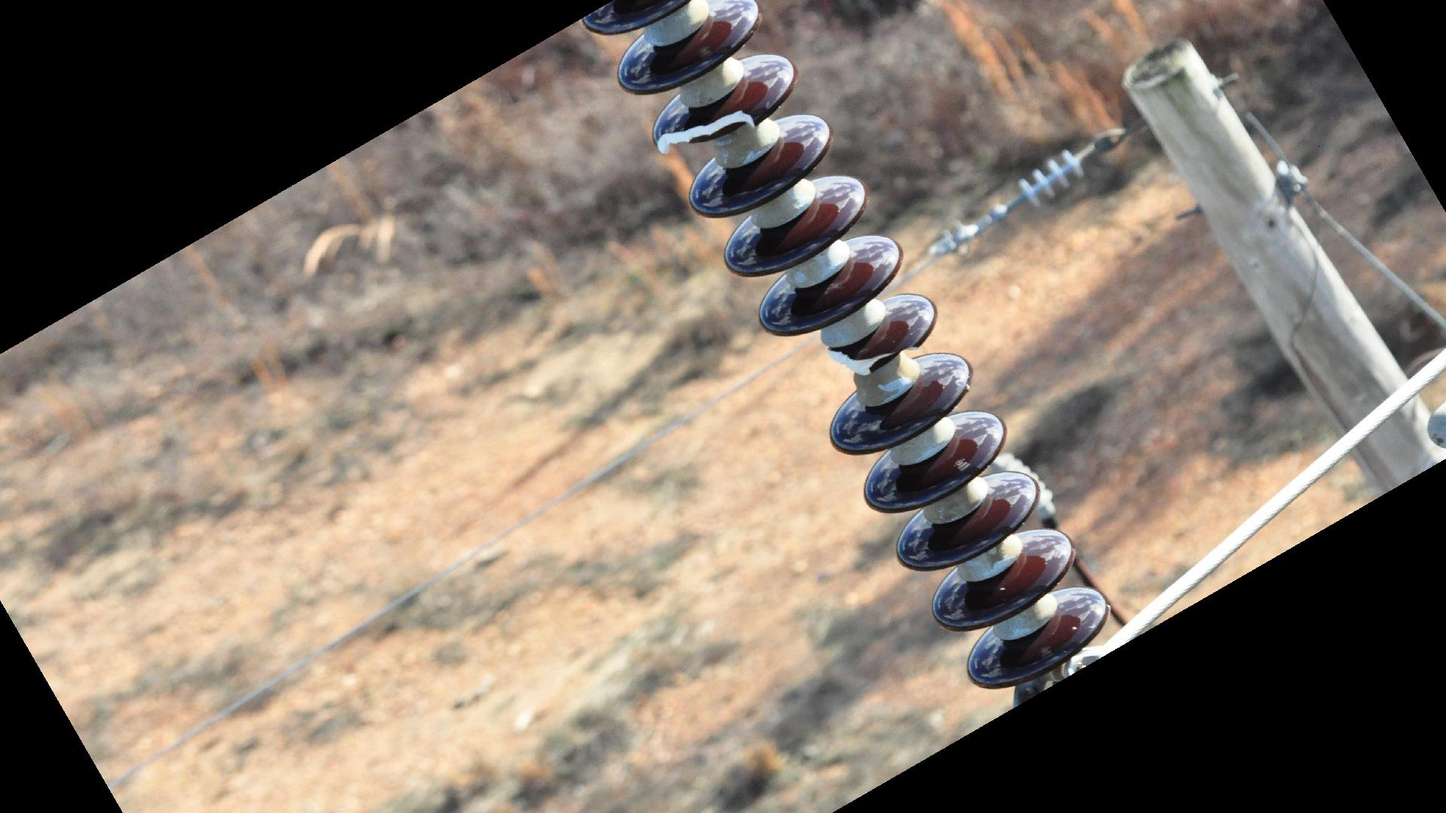insulator: (571, 1, 1116, 699), (1016, 145, 1087, 211)
insulator_breakage: (650, 108, 761, 158), (816, 339, 920, 379)
